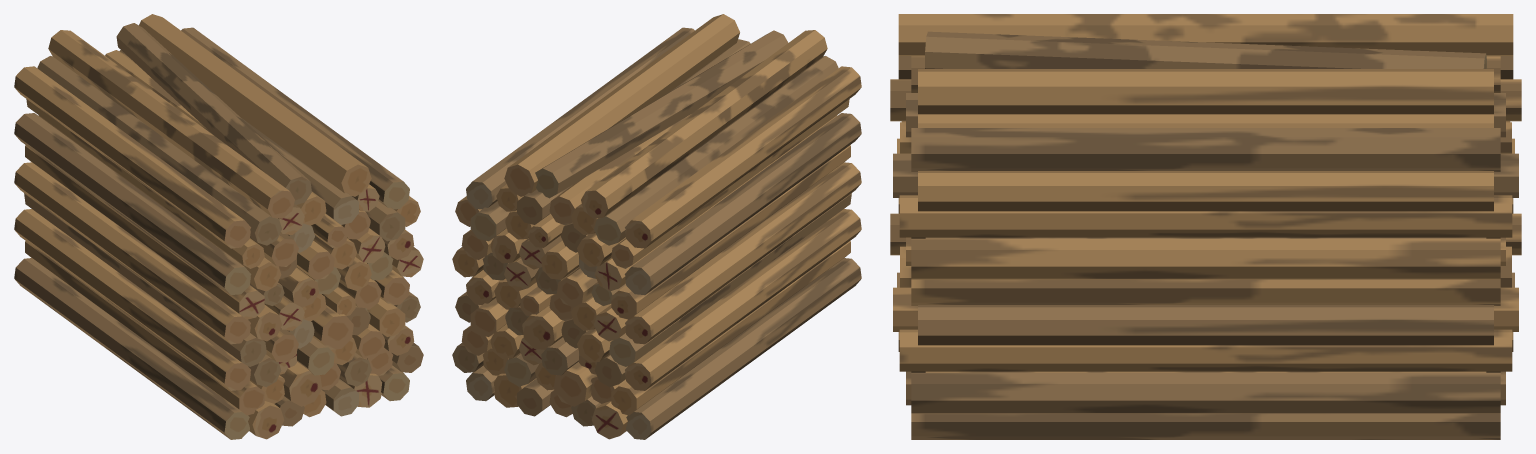
Rendered from SM_Prop_LogPile_Large_02.fbx.
3 renders of one model, left to right at view 1: azimuth 30°, elevation 25°; view 2: azimuth 150°, elevation 25°; view 3: azimuth 270°, elevation 25°, orthographic. The views are drawn at different scales.
Parts seen in each view (by area): view 1: SM_Prop_LogPile_Large_02; view 2: SM_Prop_LogPile_Large_02; view 3: SM_Prop_LogPile_Large_02.
Part boxes in pixels (bbox=[...]): SM_Prop_LogPile_Large_02: bbox=[14, 14, 423, 439]; SM_Prop_LogPile_Large_02: bbox=[452, 14, 861, 439]; SM_Prop_LogPile_Large_02: bbox=[890, 14, 1521, 439].
Bounding box in the file's own units: 519 × 613 × 1018.
